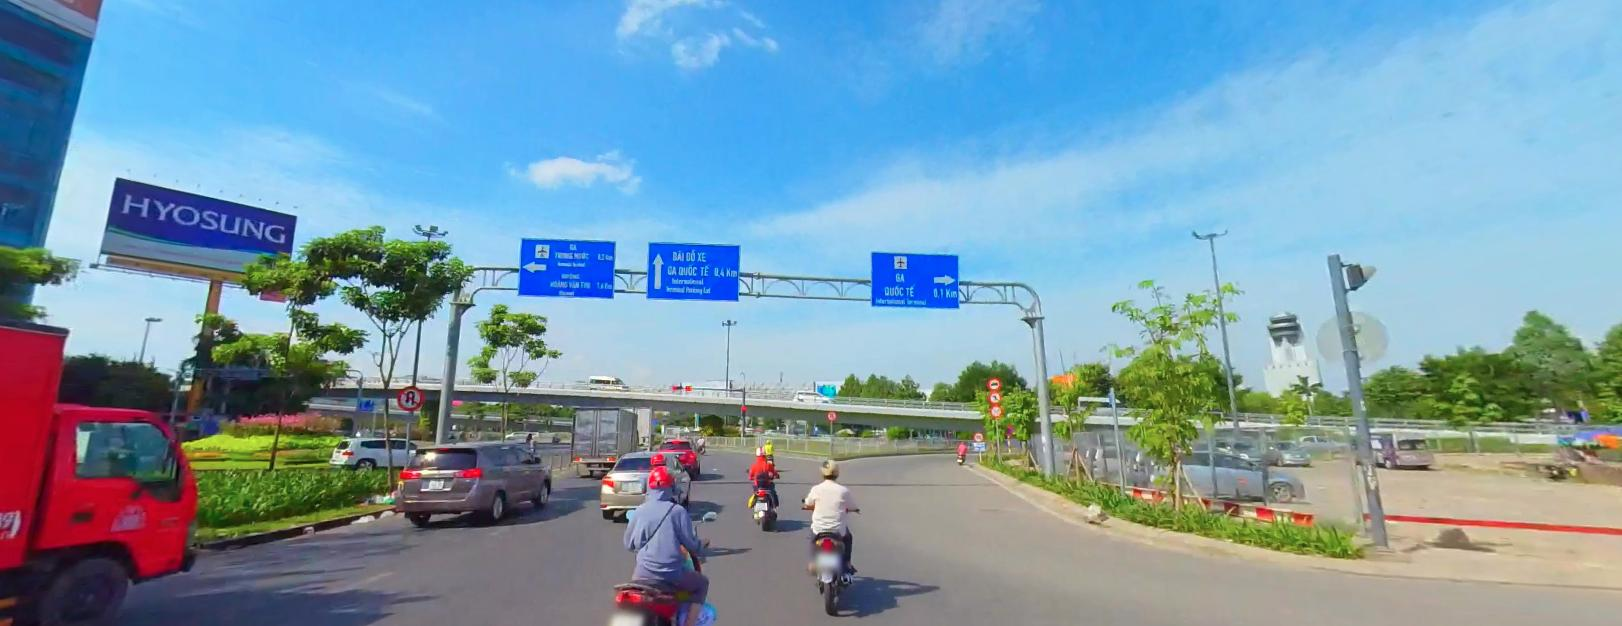Cam con lai: (987, 376, 1000, 389), (987, 391, 1001, 403), (990, 404, 1002, 416), (973, 430, 983, 439)
Cam dung va do: (1004, 423, 1012, 434)
Cam re: (397, 383, 424, 408), (827, 409, 836, 420)
